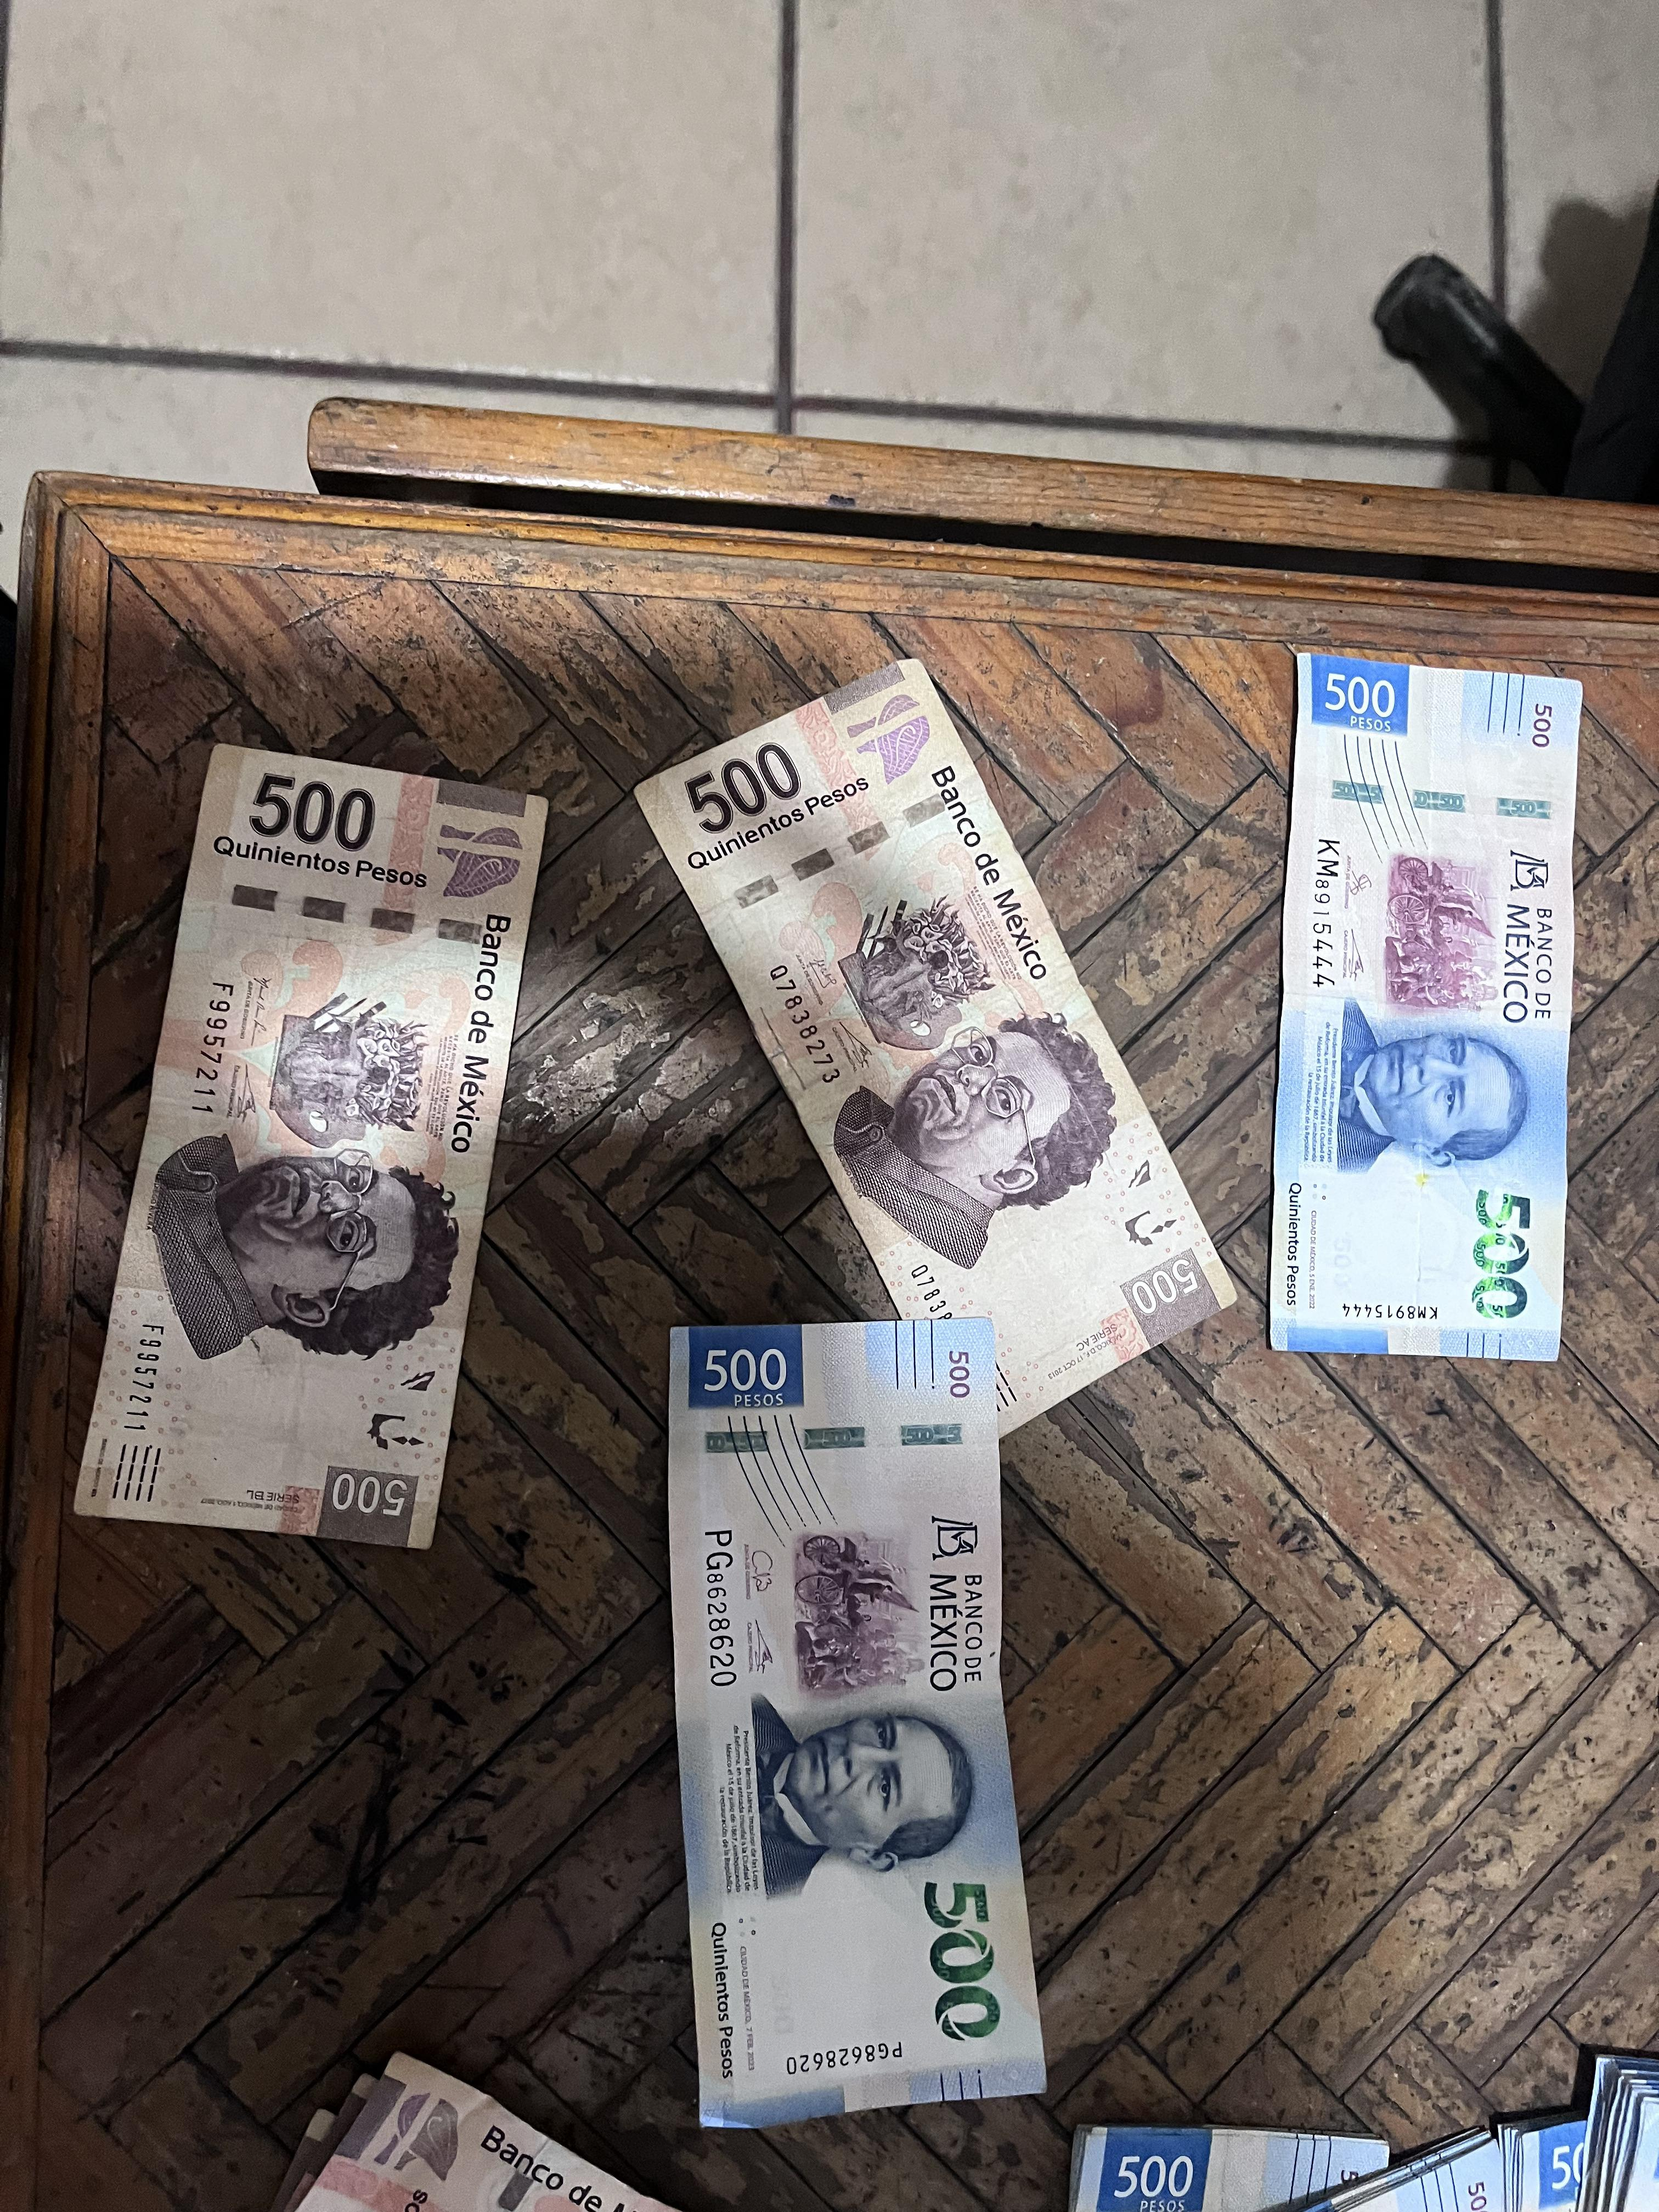500: (636, 648, 1241, 1439), (70, 740, 558, 1554)
500 nuevo: (664, 1320, 1058, 2121), (1255, 636, 1596, 1367)
